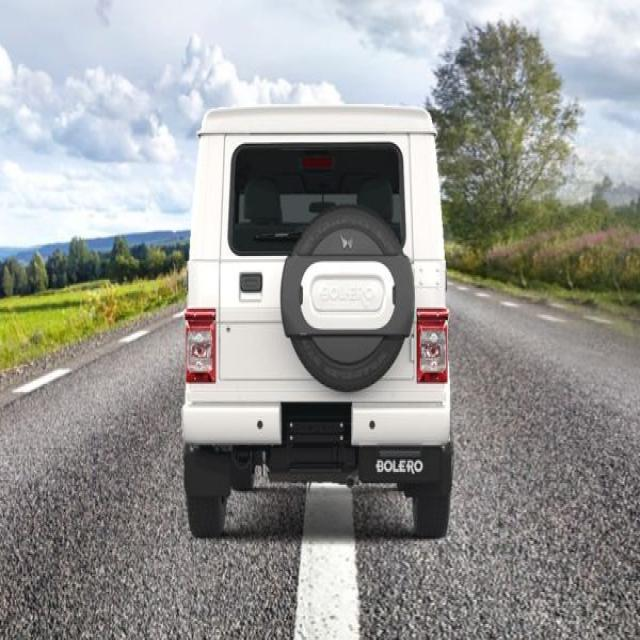light_vehicle: (183, 102, 454, 542)
